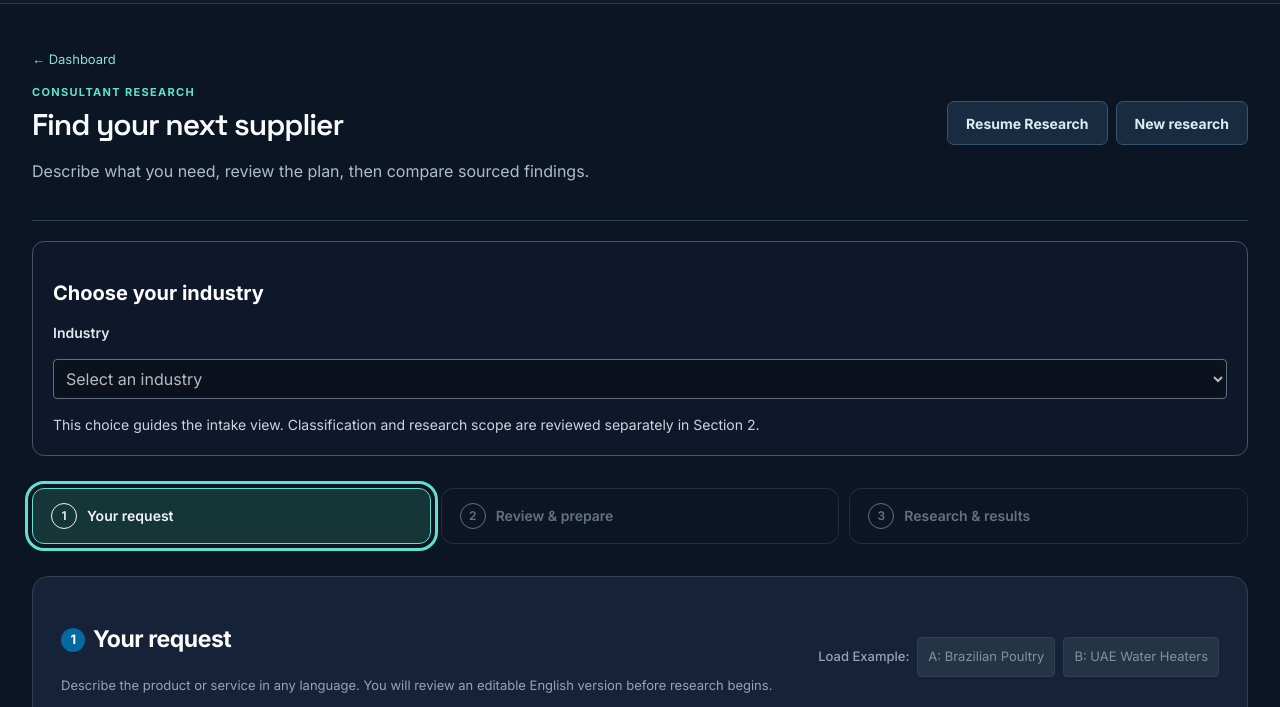
MB-UX-QUALITY-001 L05 intake readiness › opens an acknowledged saved draft after initial creation fails
The image size is (1280, 707).
Step 1. Click the button "Resume Research" → (1027, 123), box 947,101 -> 1108,145
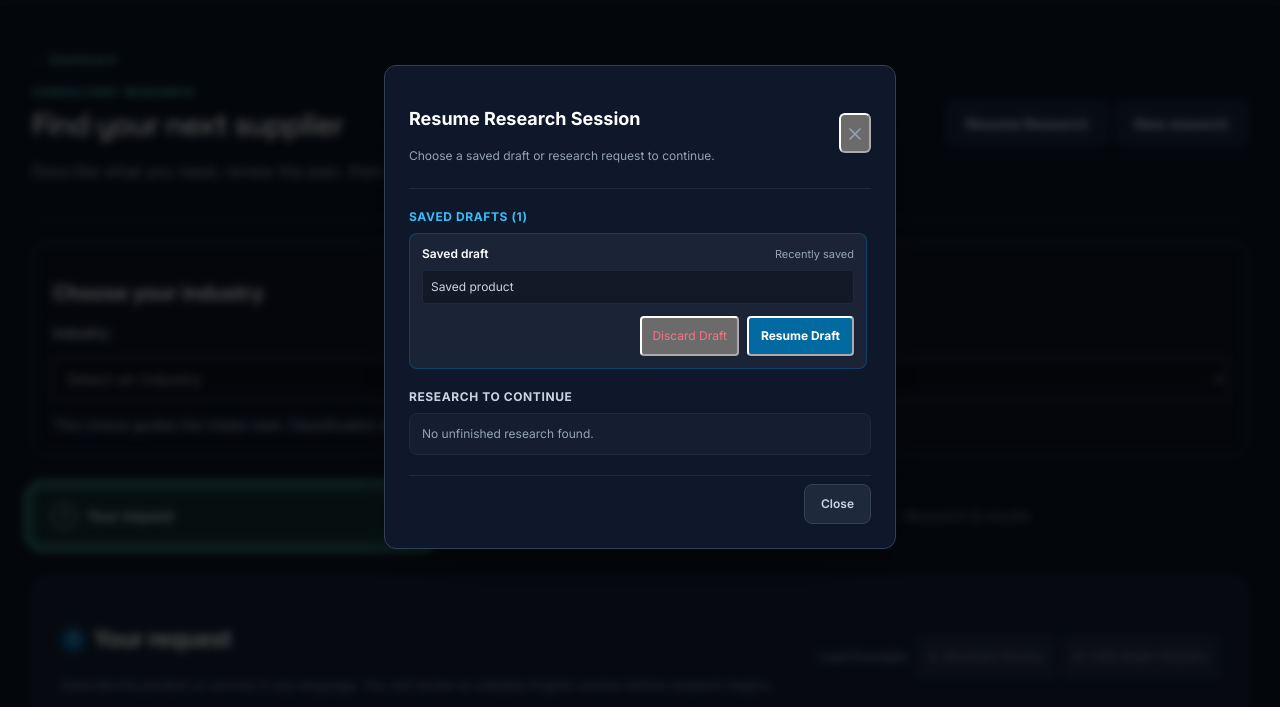
Step 2. Click the button "Resume Draft" → (800, 336), box 747,316 -> 854,356
(page scrolled)
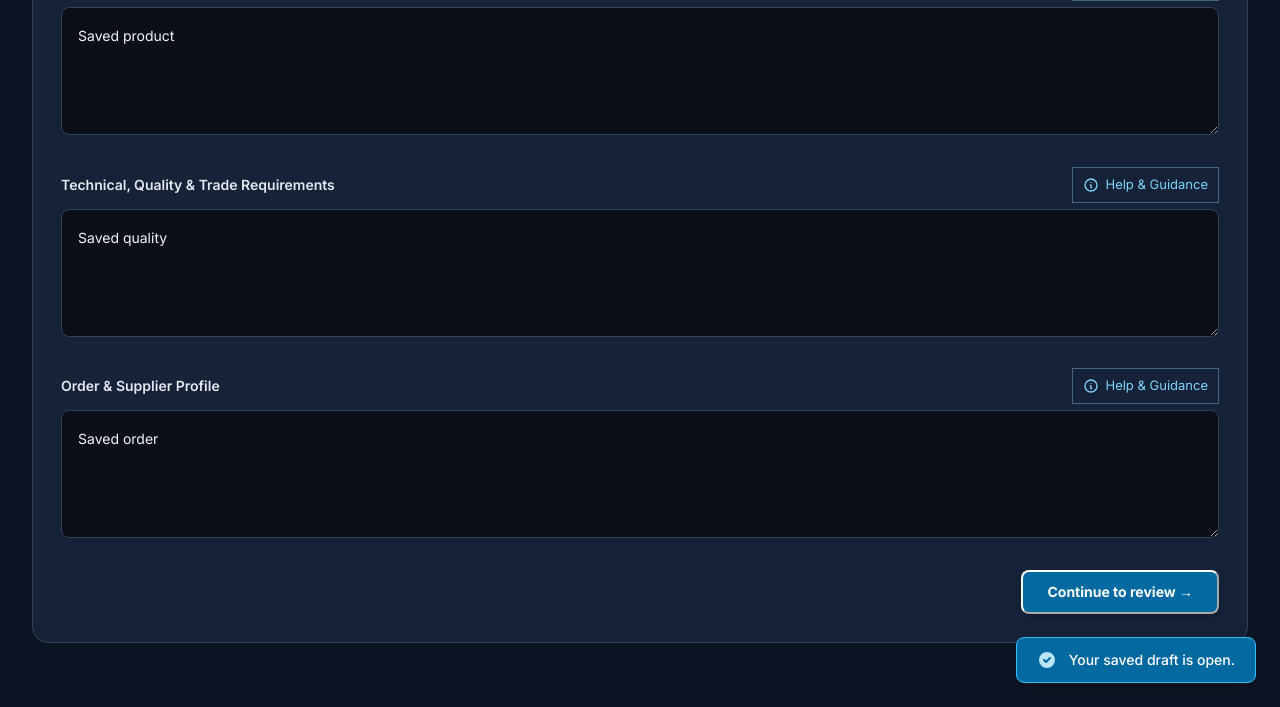
Expected: the text box labelled "Product Requirement" is enabled, 61,7 -> 1219,135
Expected: the text box labelled "Product Requirement" holds "Saved product", 61,7 -> 1219,135
Expected: the text box labelled "Technical, Quality & Trade Requirements" holds "Saved quality", 61,209 -> 1219,337
